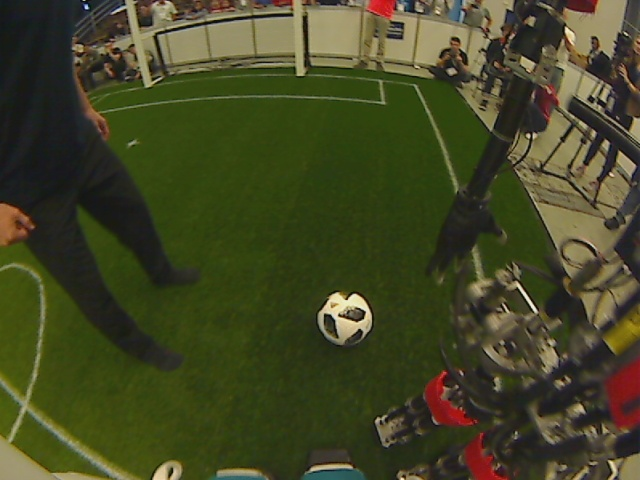ball: (315, 289, 373, 349)
